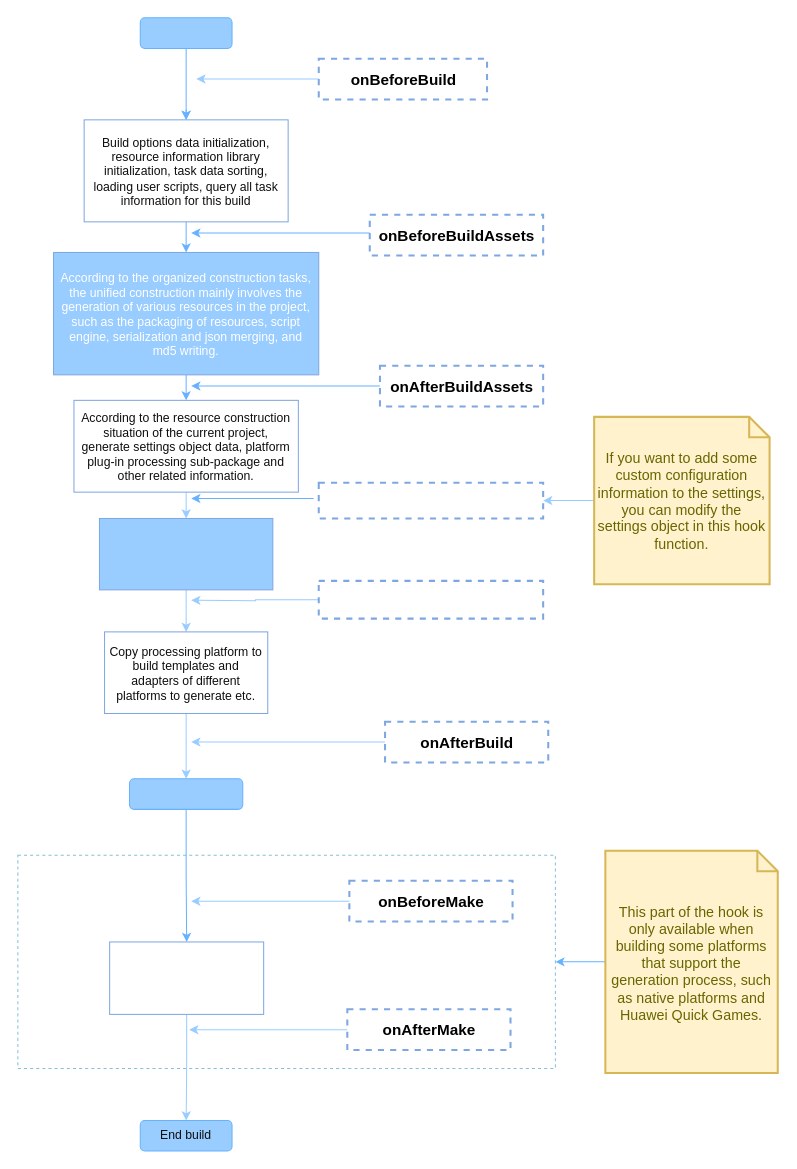
The diagram is 797 pixels wide and 1169 high, and some of its shapes have lost their labels. The shapes that lost their labels are listed below. From the top down, each one's centre as x and y in pixels, then its label:
point (185, 32): Start building
point (430, 500): onBeforeCompressSettings
point (185, 553): Compress the uuid in the settings object and write it into the actual package.
point (430, 599): onAfterCompressSettings
point (186, 793): End Basic build
point (186, 977): Configure the compilation environment, generate rpk/cpk/apk, etc.
